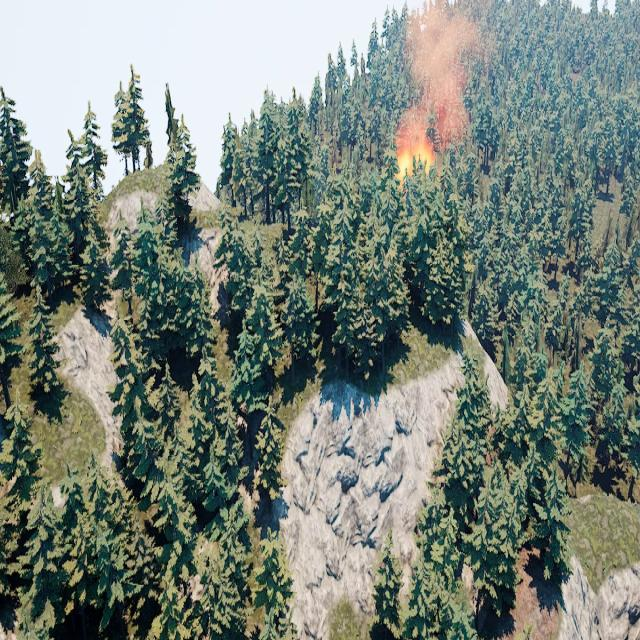fire: (397, 136, 435, 179)
smoke: (398, 1, 488, 148)
